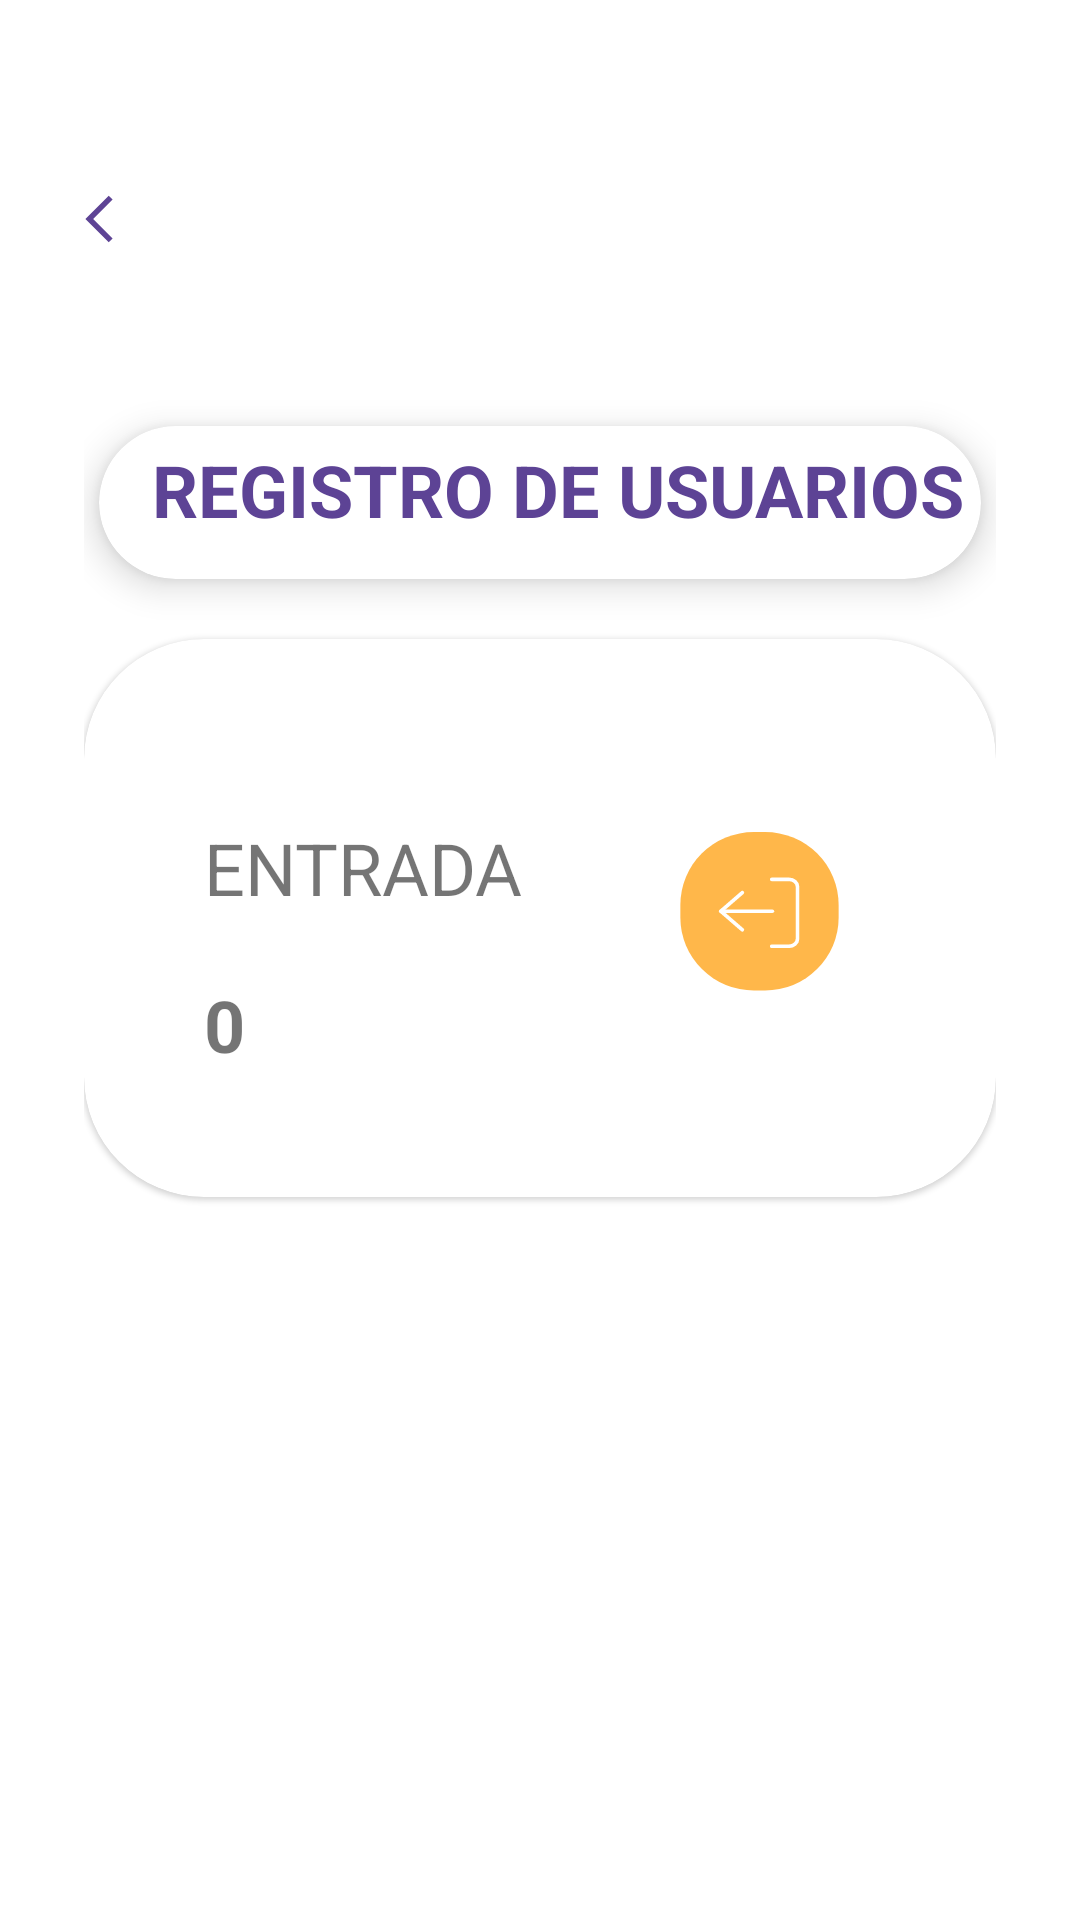

Locate icon controls on the screen. Image size 1080px x 1920px, boxes as (x1, y1, x2, y2).
salir: (680, 832, 839, 991)
volver: (85, 196, 113, 242)
